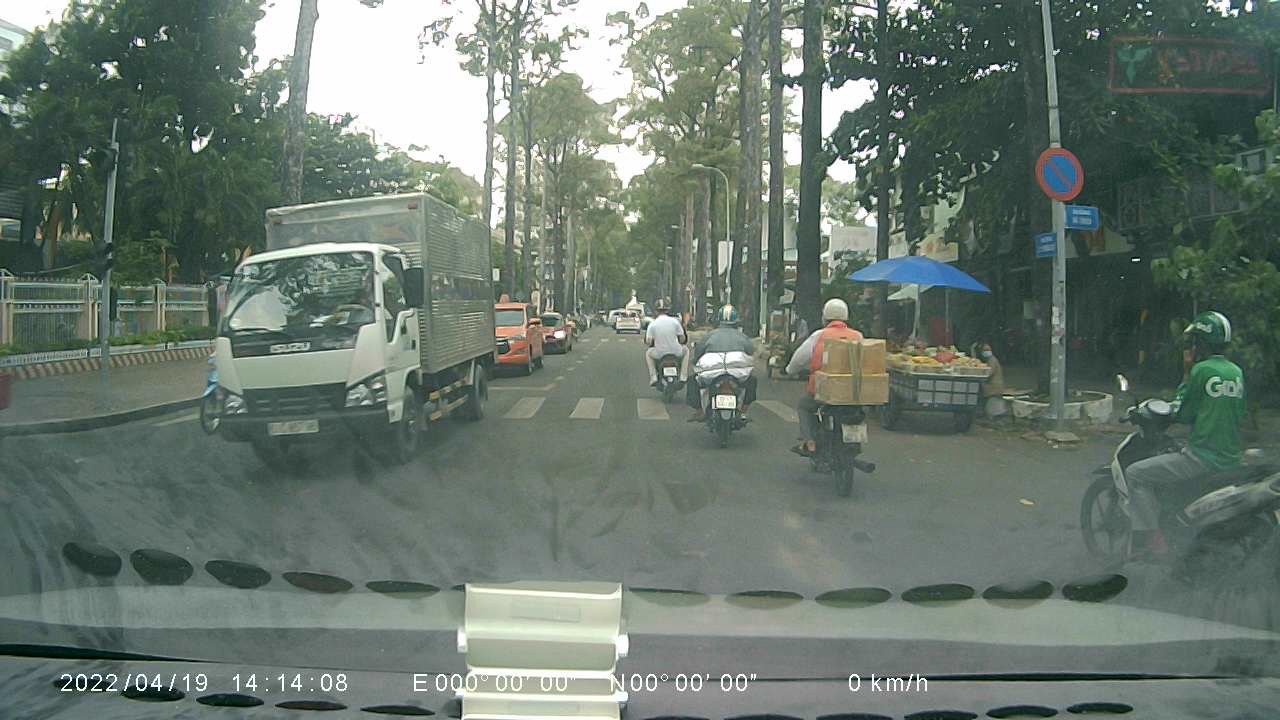Cam do xe: (1036, 145, 1085, 203)
